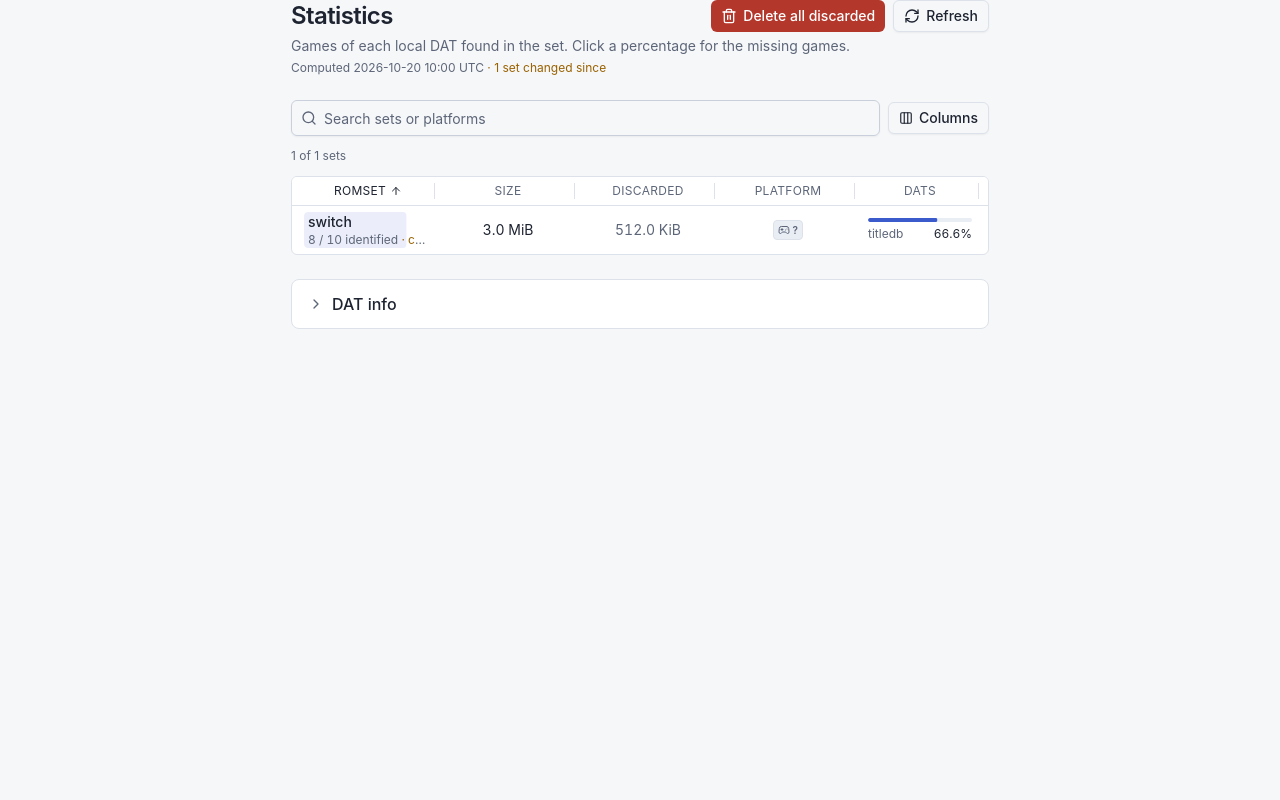
Scenario: titledb: one source for the region files, explained in DAT info, title IDs in the missing games
This screenshot has width=1280, height=800.
Click the button with test id "coverage-switch-titledb".
click(920, 230)  # box x1=864 y1=218 x2=976 y2=242
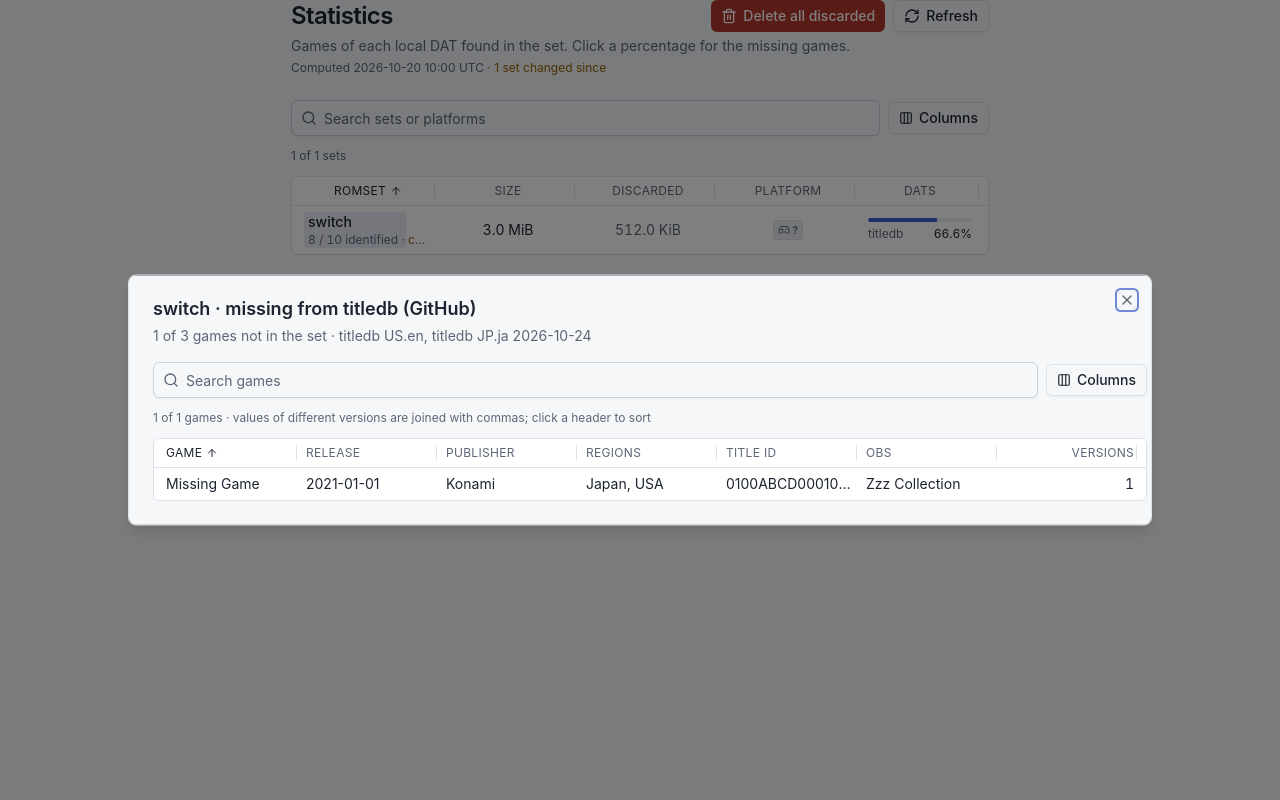
Now the element with test id "missing-0100ABCD00010000" shows "2021-01-01", box x1=306 y1=474 x2=380 y2=492
Now the button "Title ID" is shown, box x1=726 y1=444 x2=776 y2=460
Now the button "Release" is shown, box x1=306 y1=444 x2=360 y2=460
